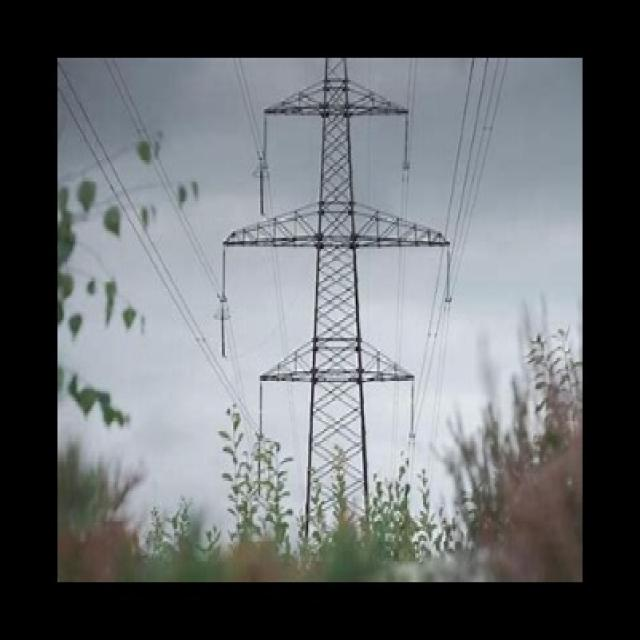utility poles: (200, 371, 466, 577)
